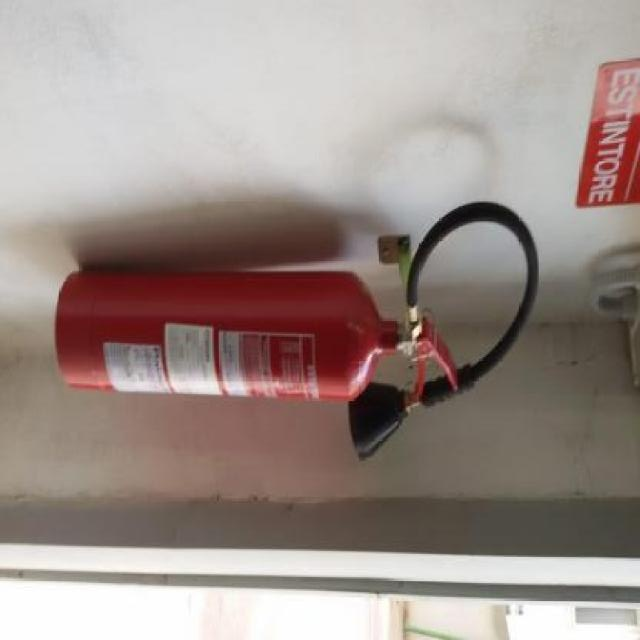fire extinguisher: (55, 201, 539, 462)
